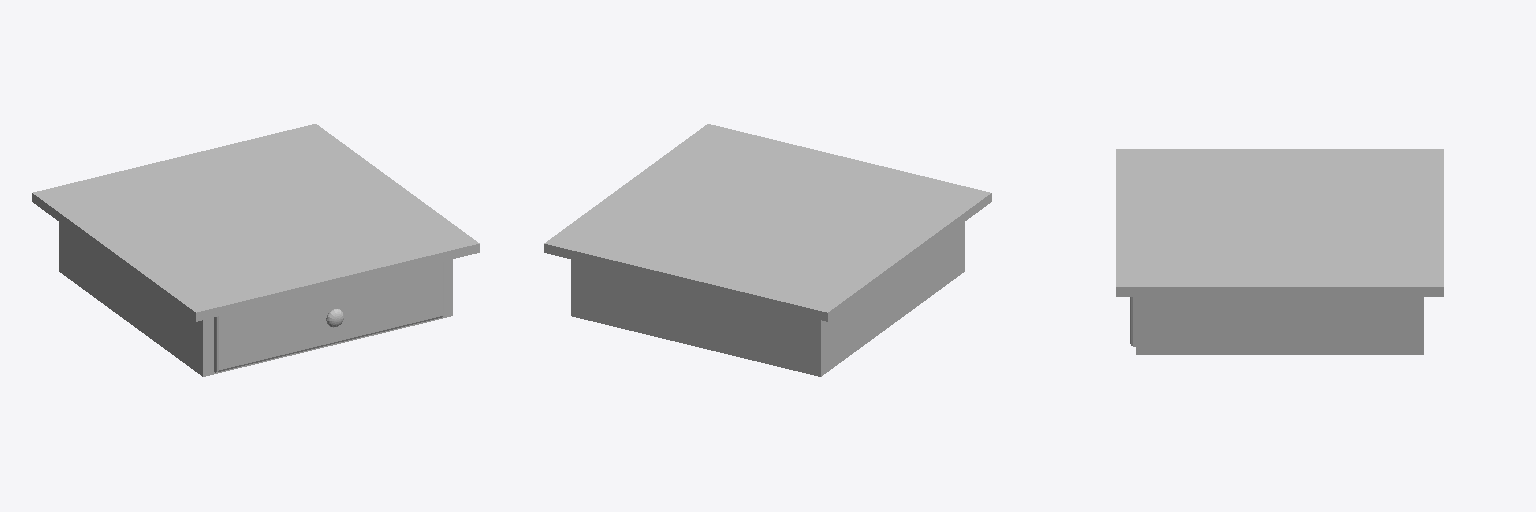
File: tv_table_1.obj
3 views of the same model, side by side, from view 1: azimuth 30°, elevation 25°; view 2: azimuth 150°, elevation 25°; view 3: azimuth 270°, elevation 25° (orthographic).
Size of the model in its own units: 21.02 by 5.35 by 21.03.